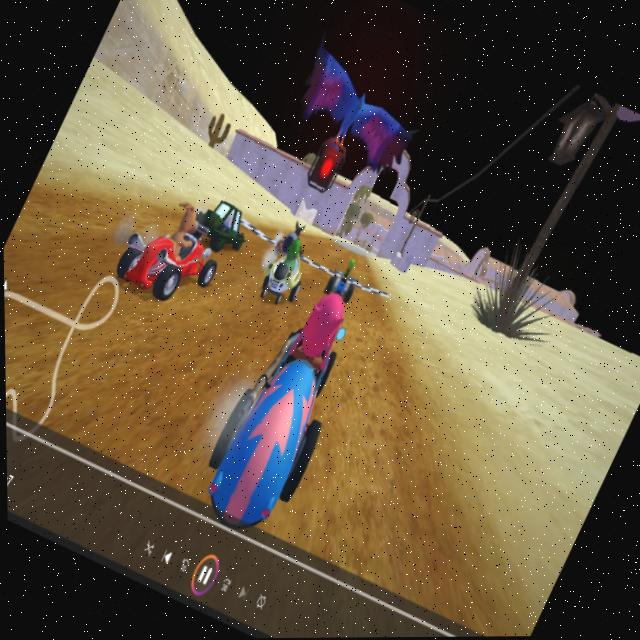enemy_kart: (96, 185, 235, 325), (235, 220, 324, 328)
off_track: (380, 79, 640, 458), (89, 66, 305, 214)
player_kart: (182, 277, 385, 541)
track: (324, 219, 385, 275)
